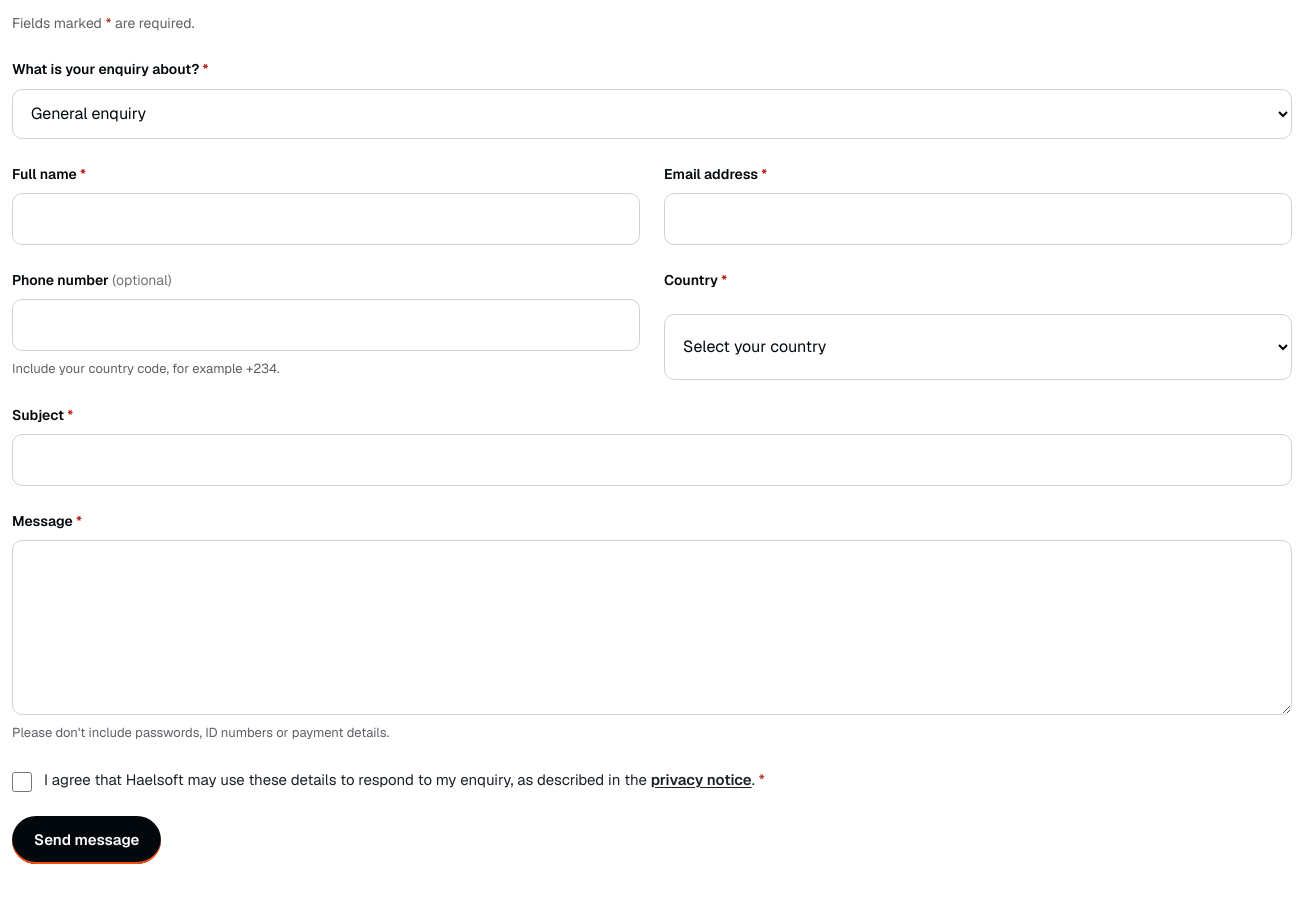
it: ContactForm › shows server-side validation errors against the right field
Step 1. Type "Ada Obi" into the field labelled "Full name *" → (326,219), box x1=12 y1=193 x2=640 y2=245
Step 2. Type "ada@example.com" into the field labelled "Email address *" → (978,219), box x1=664 y1=193 x2=1292 y2=245
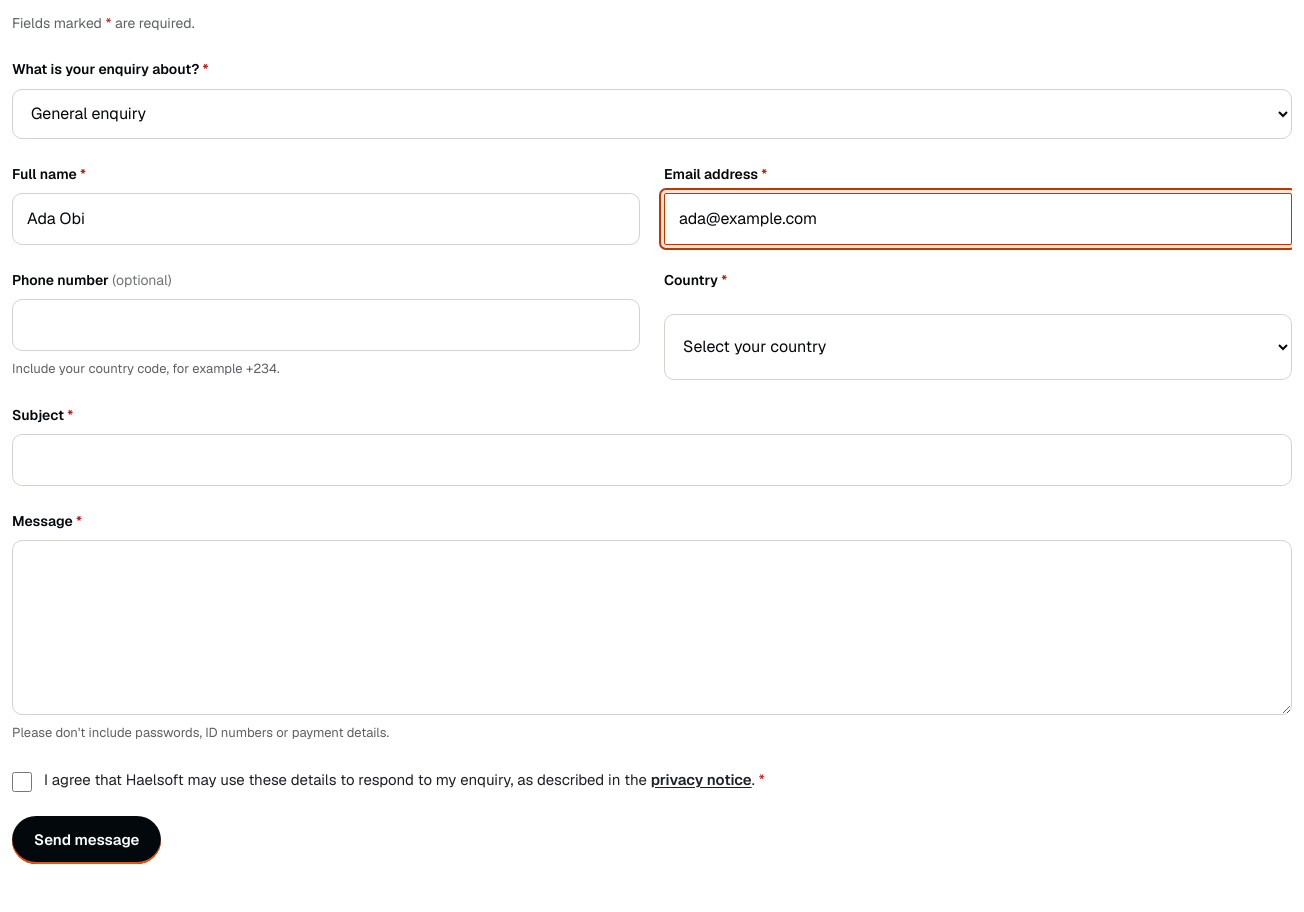
Step 3. Select "Kenya" in the dropdown labelled "Country *" → (978,347), box x1=664 y1=314 x2=1292 y2=380
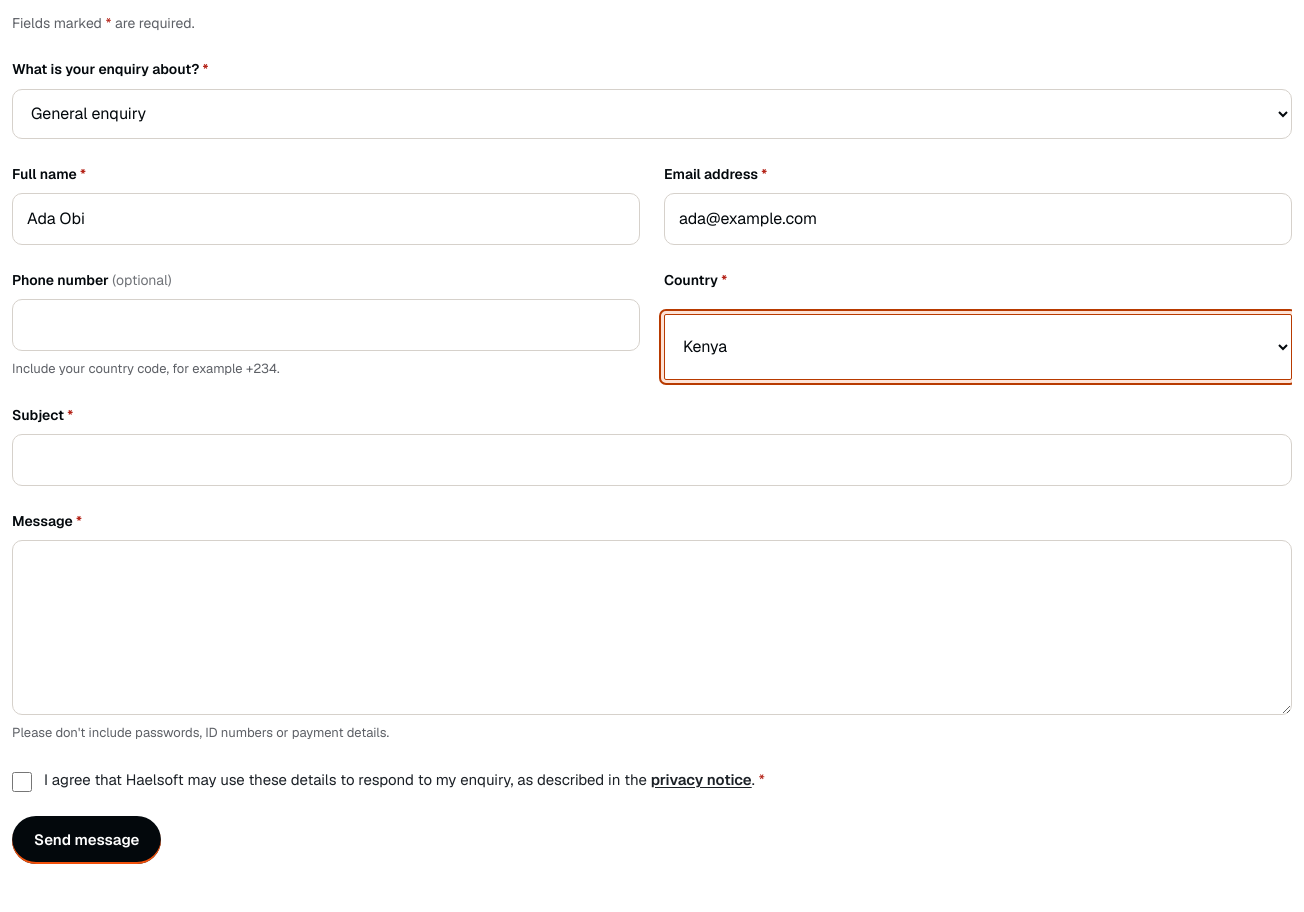
Step 4. Type "Course updates" into the field labelled "Subject *" → (652,460), box x1=12 y1=434 x2=1292 y2=486
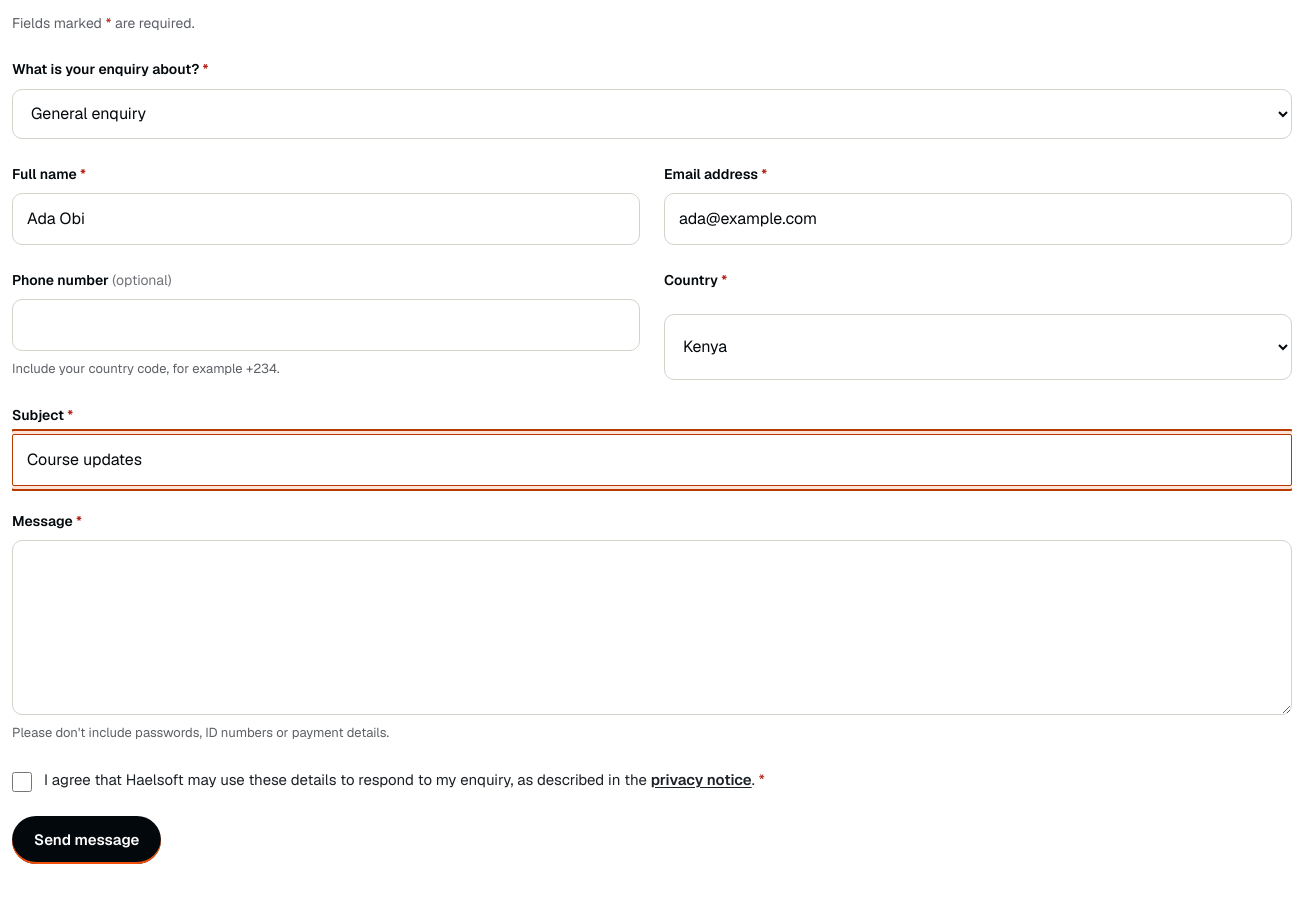
Step 5. Type "Please tell me when the data courses open." into the text box labelled "Message *" → (652,627), box x1=12 y1=540 x2=1292 y2=715
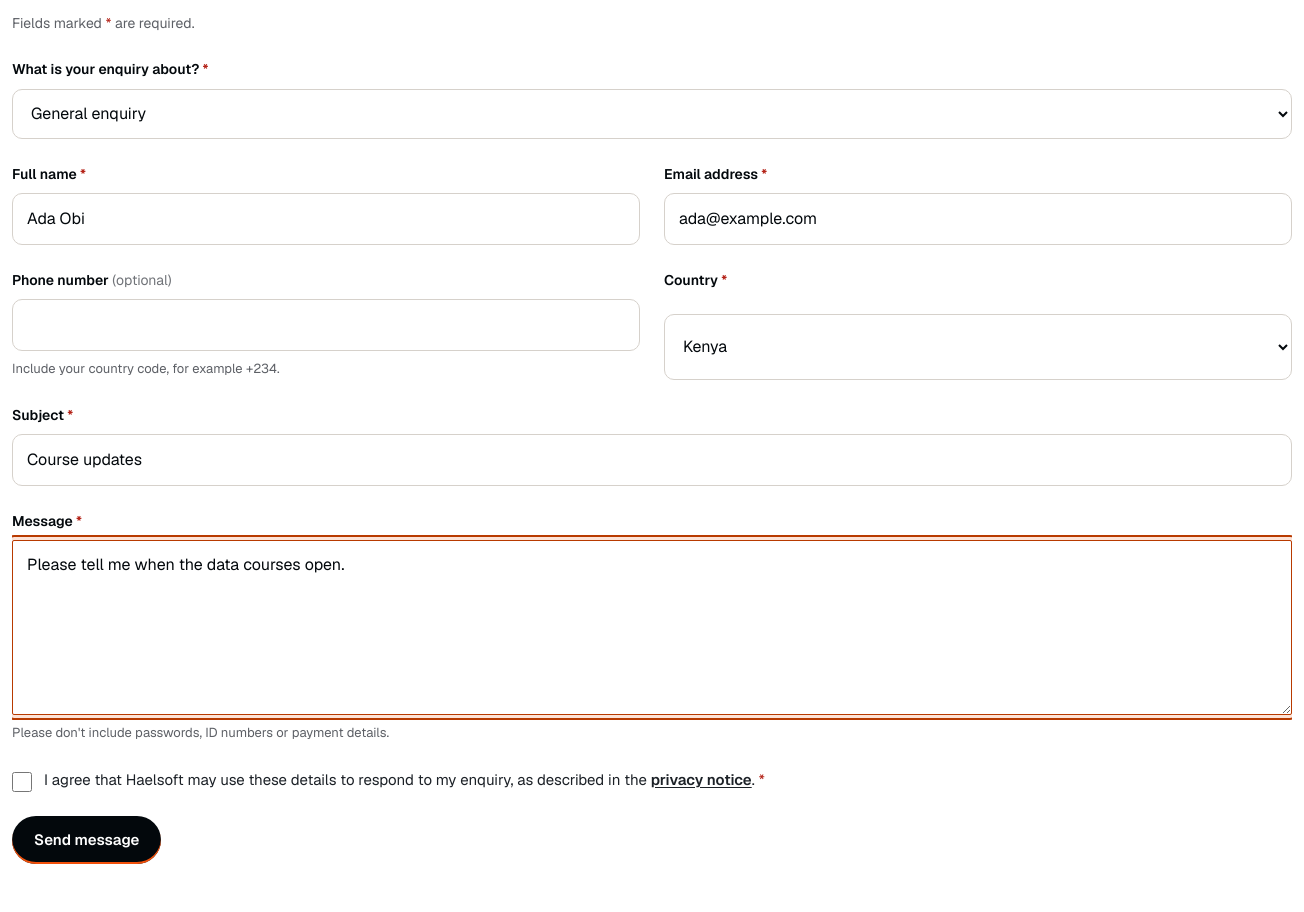
Step 6. Click the checkbox → (22,782), box x1=12 y1=772 x2=32 y2=792
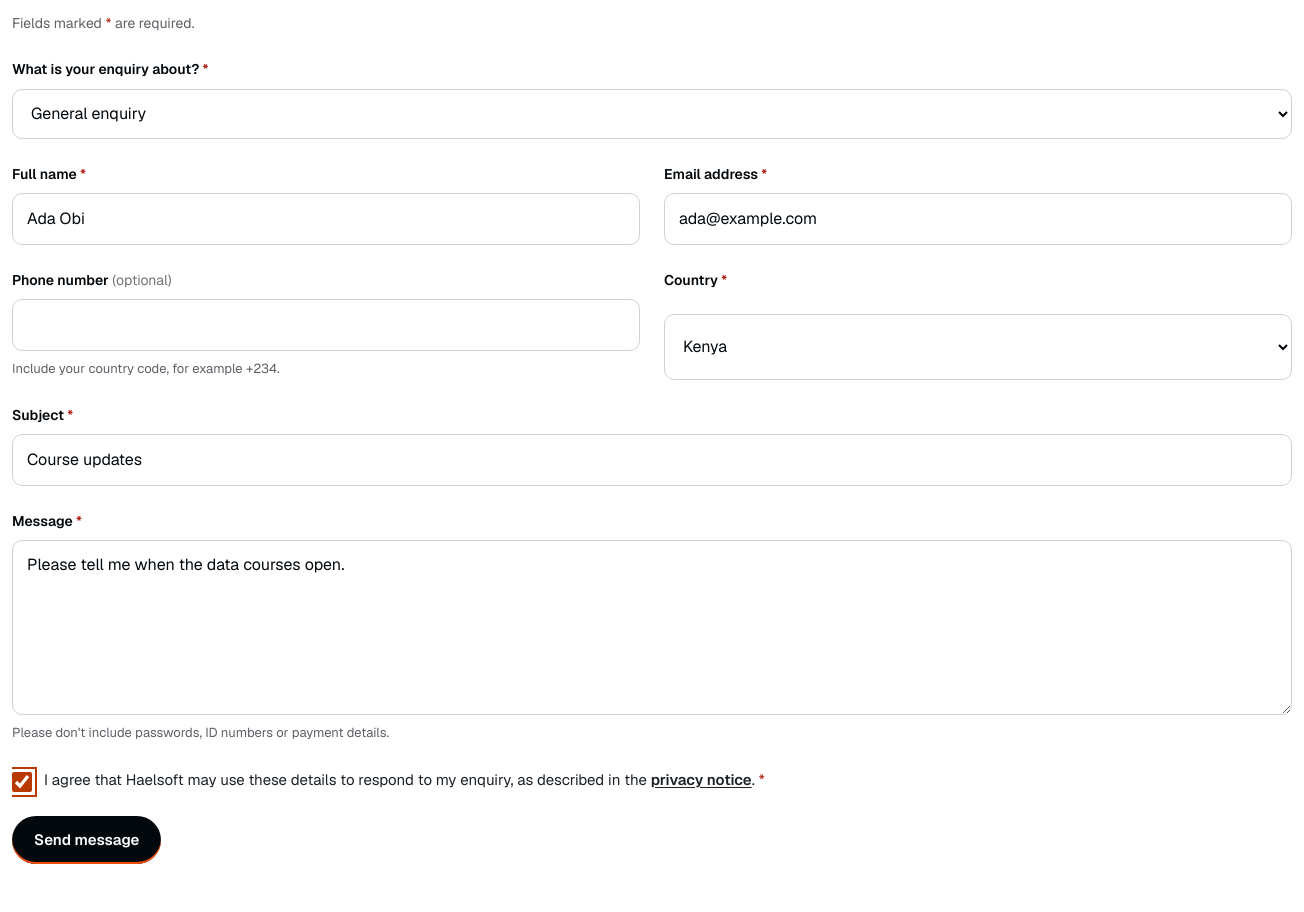
Step 7. Click the button "Send message" → (87,840), box x1=12 y1=816 x2=162 y2=864
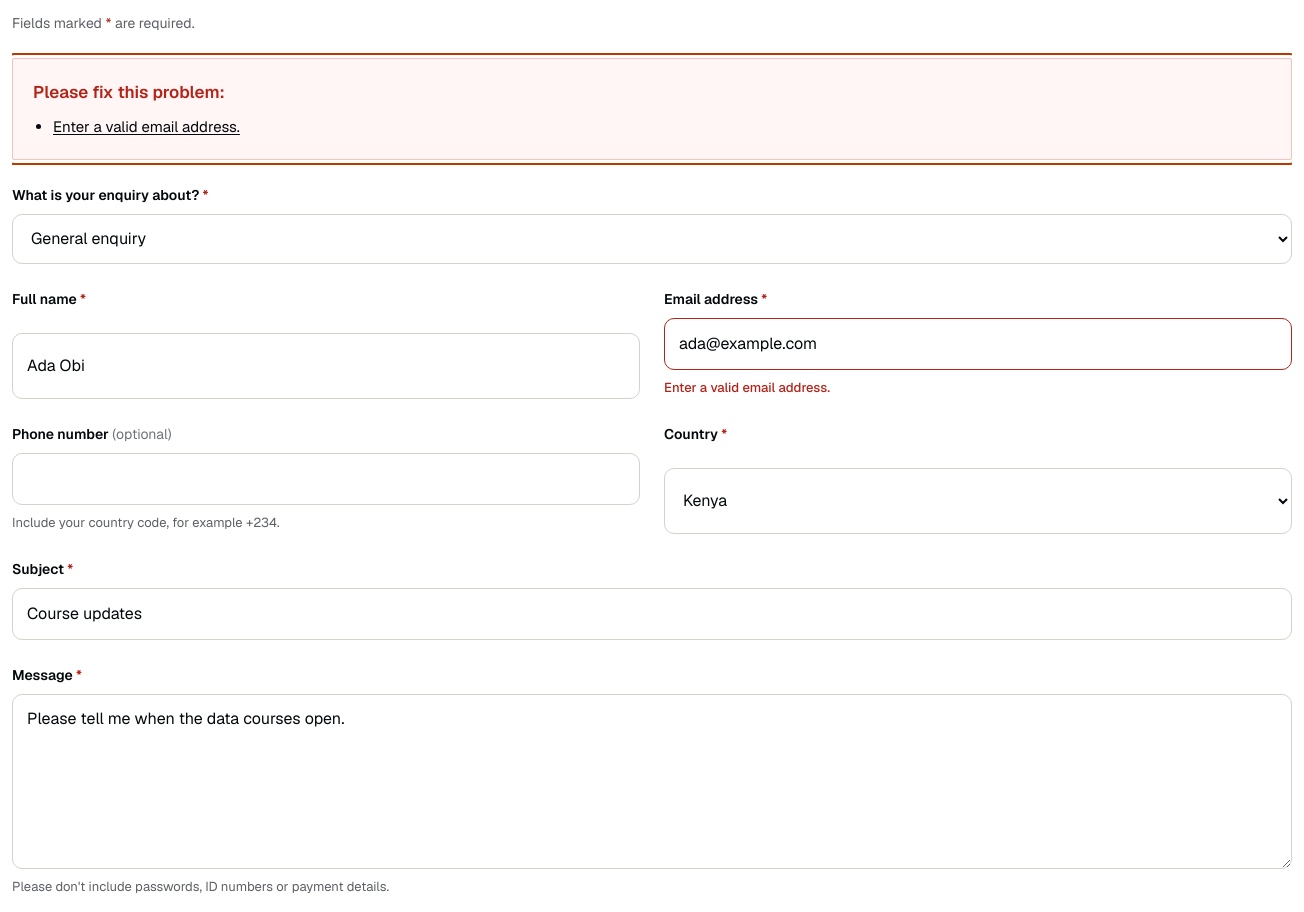
Check: the link "Enter a valid email address." is shown, box x1=53 y1=117 x2=240 y2=136
